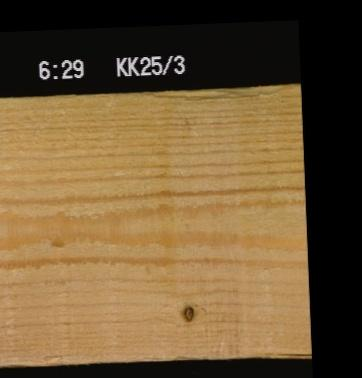dry_knot: (180, 303, 194, 323)
wave: (143, 86, 290, 102)
